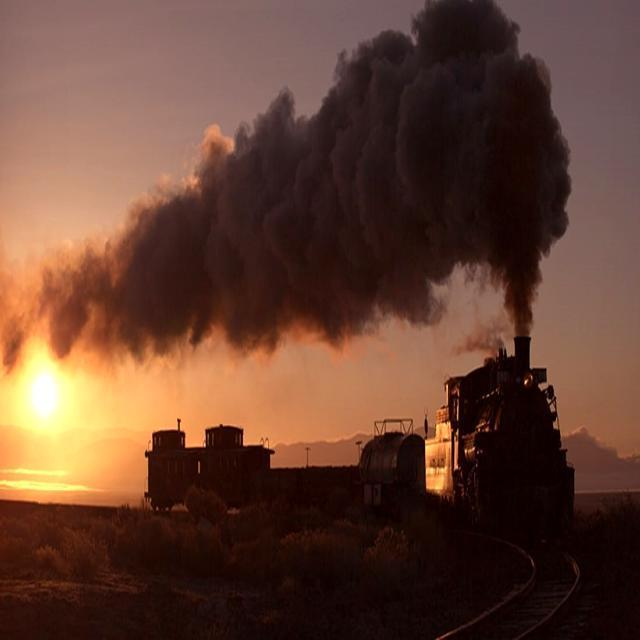Smoke: (116, 0, 594, 390)
